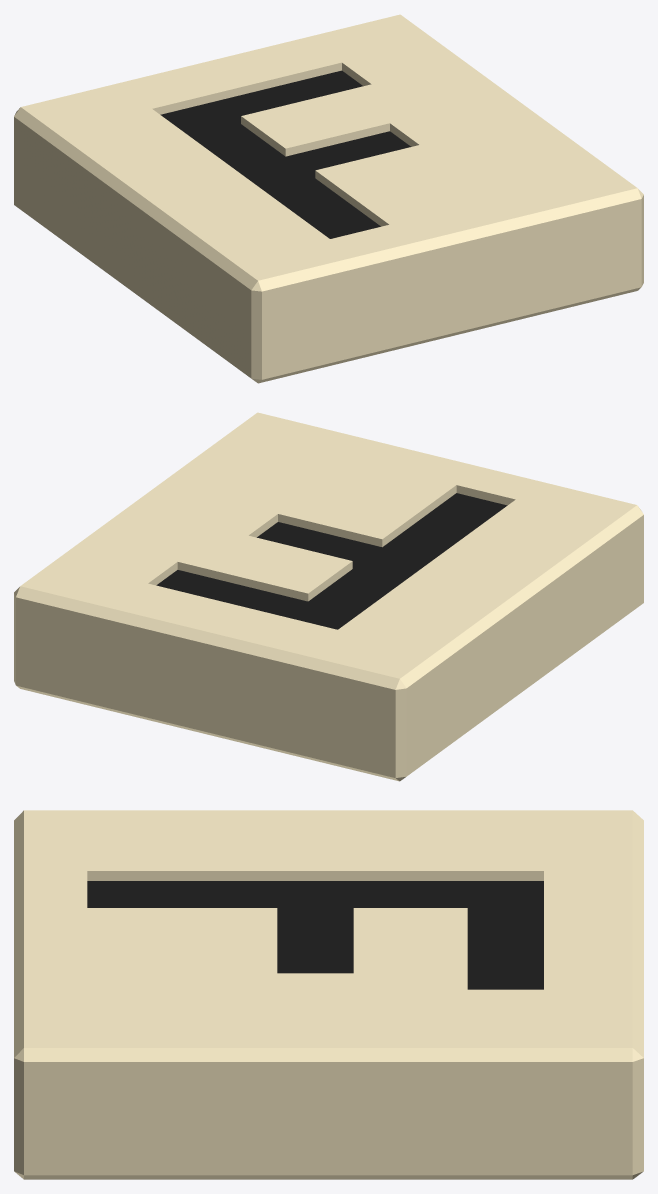
The model's file is Game_Anagram_Tile_F_01.fbx.
The picture shows the model from 3 angles, top to bottom: view 1: azimuth 30°, elevation 25°; view 2: azimuth 150°, elevation 25°; view 3: azimuth 270°, elevation 25°; orthographic projection. The views are drawn at different scales.
Visible parts, largest first — view 1: Game_Anagram_Tile_F_01; view 2: Game_Anagram_Tile_F_01; view 3: Game_Anagram_Tile_F_01.
Boxes of the visible parts, box(x1,y1,x2,y2) form: Game_Anagram_Tile_F_01: box(14, 14, 643, 383); Game_Anagram_Tile_F_01: box(14, 412, 643, 781); Game_Anagram_Tile_F_01: box(14, 810, 643, 1179).
Bounding box in the file's own units: 16.4 × 4.1 × 17.77.
